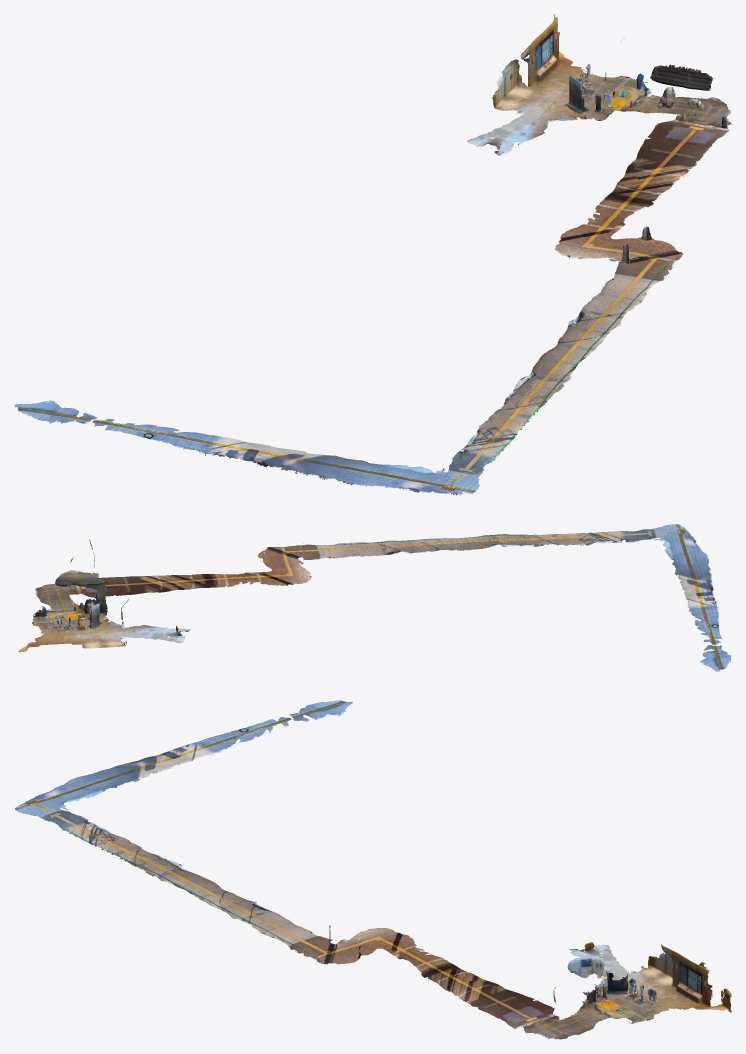
File: echizen-cityhall-road.glb
3 views of the same model, one above another, from view 1: azimuth 30°, elevation 25°; view 2: azimuth 150°, elevation 25°; view 3: azimuth 270°, elevation 25° (orthographic). The views are drawn at different scales.
Parts seen in each view (by area): view 1: mesh; view 2: mesh; view 3: mesh.
Part boxes in pixels (left/top/right/bottom): mesh: left=14, top=14, right=731, bottom=495; mesh: left=18, top=524, right=731, bottom=671; mesh: left=15, top=700, right=731, bottom=1039.
Size of the model in its own units: 61.46 by 5.19 by 54.34.
1 material, 1 textured.
